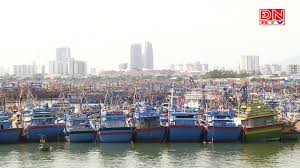tau_dansu: (19, 98, 65, 145), (97, 102, 136, 148), (164, 105, 207, 146), (242, 101, 279, 146), (131, 103, 166, 145), (207, 104, 240, 148), (67, 103, 98, 147)
